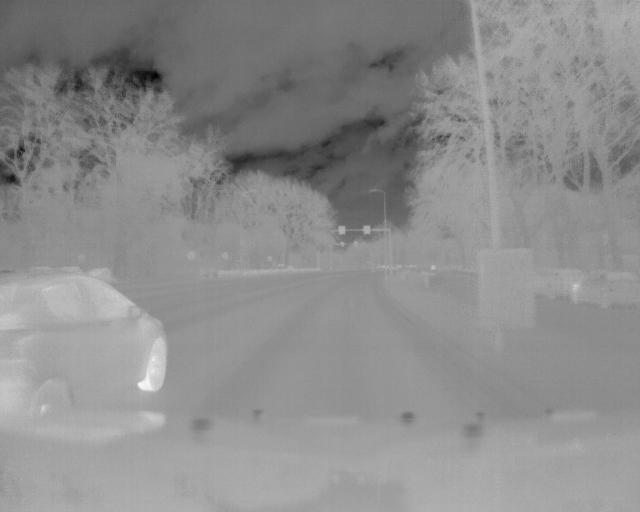car: (1, 267, 169, 432), (570, 268, 638, 312)
